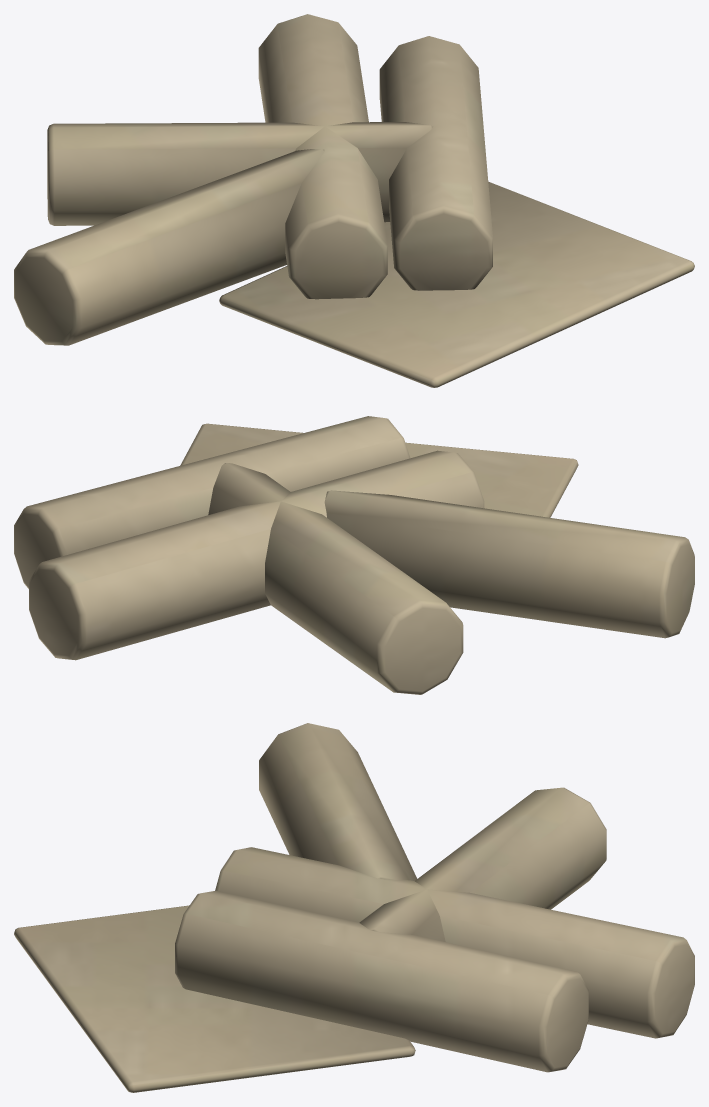
Rendered from p_scrolls.glb.
The picture shows the model from 3 angles, top to bottom: view 1: azimuth 30°, elevation 25°; view 2: azimuth 150°, elevation 25°; view 3: azimuth 270°, elevation 25°; orthographic projection.
Visible parts, largest first — view 1: scrolls; view 2: scrolls; view 3: scrolls.
Part boxes in pixels (<box>): scrolls: <box>14,14,694,387</box>; scrolls: <box>14,416,694,694</box>; scrolls: <box>14,723,694,1092</box>.
Bounding box in the file's own units: 0.4437 × 0.07 × 0.4502.
Materials: 1 (1 with a texture image).
